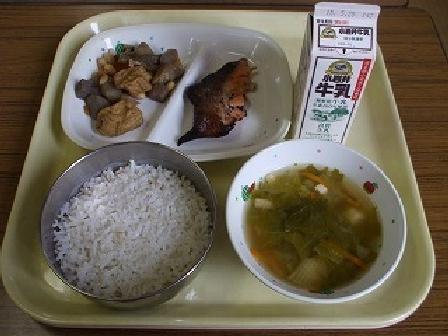Fish: (186, 53, 265, 141)
Milk: (289, 4, 388, 145)
Rice: (38, 149, 218, 302)
Soups: (239, 146, 399, 287)
cooked food meat with vegetables: (70, 33, 178, 139)
